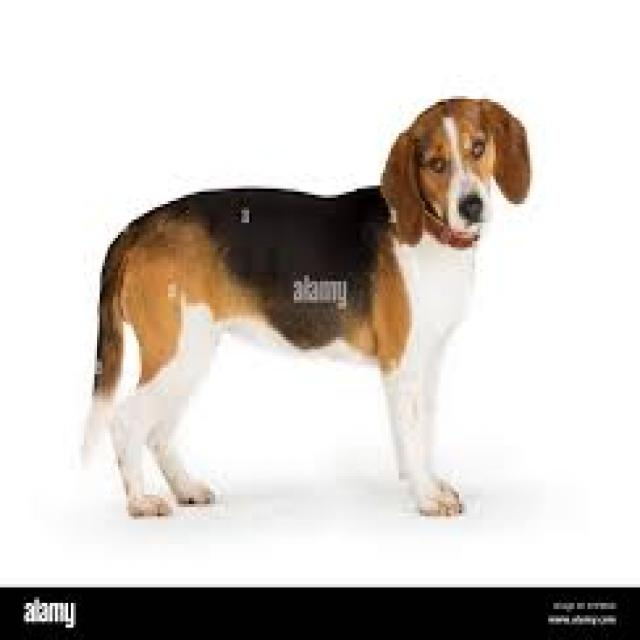Dog: (76, 91, 539, 524)
